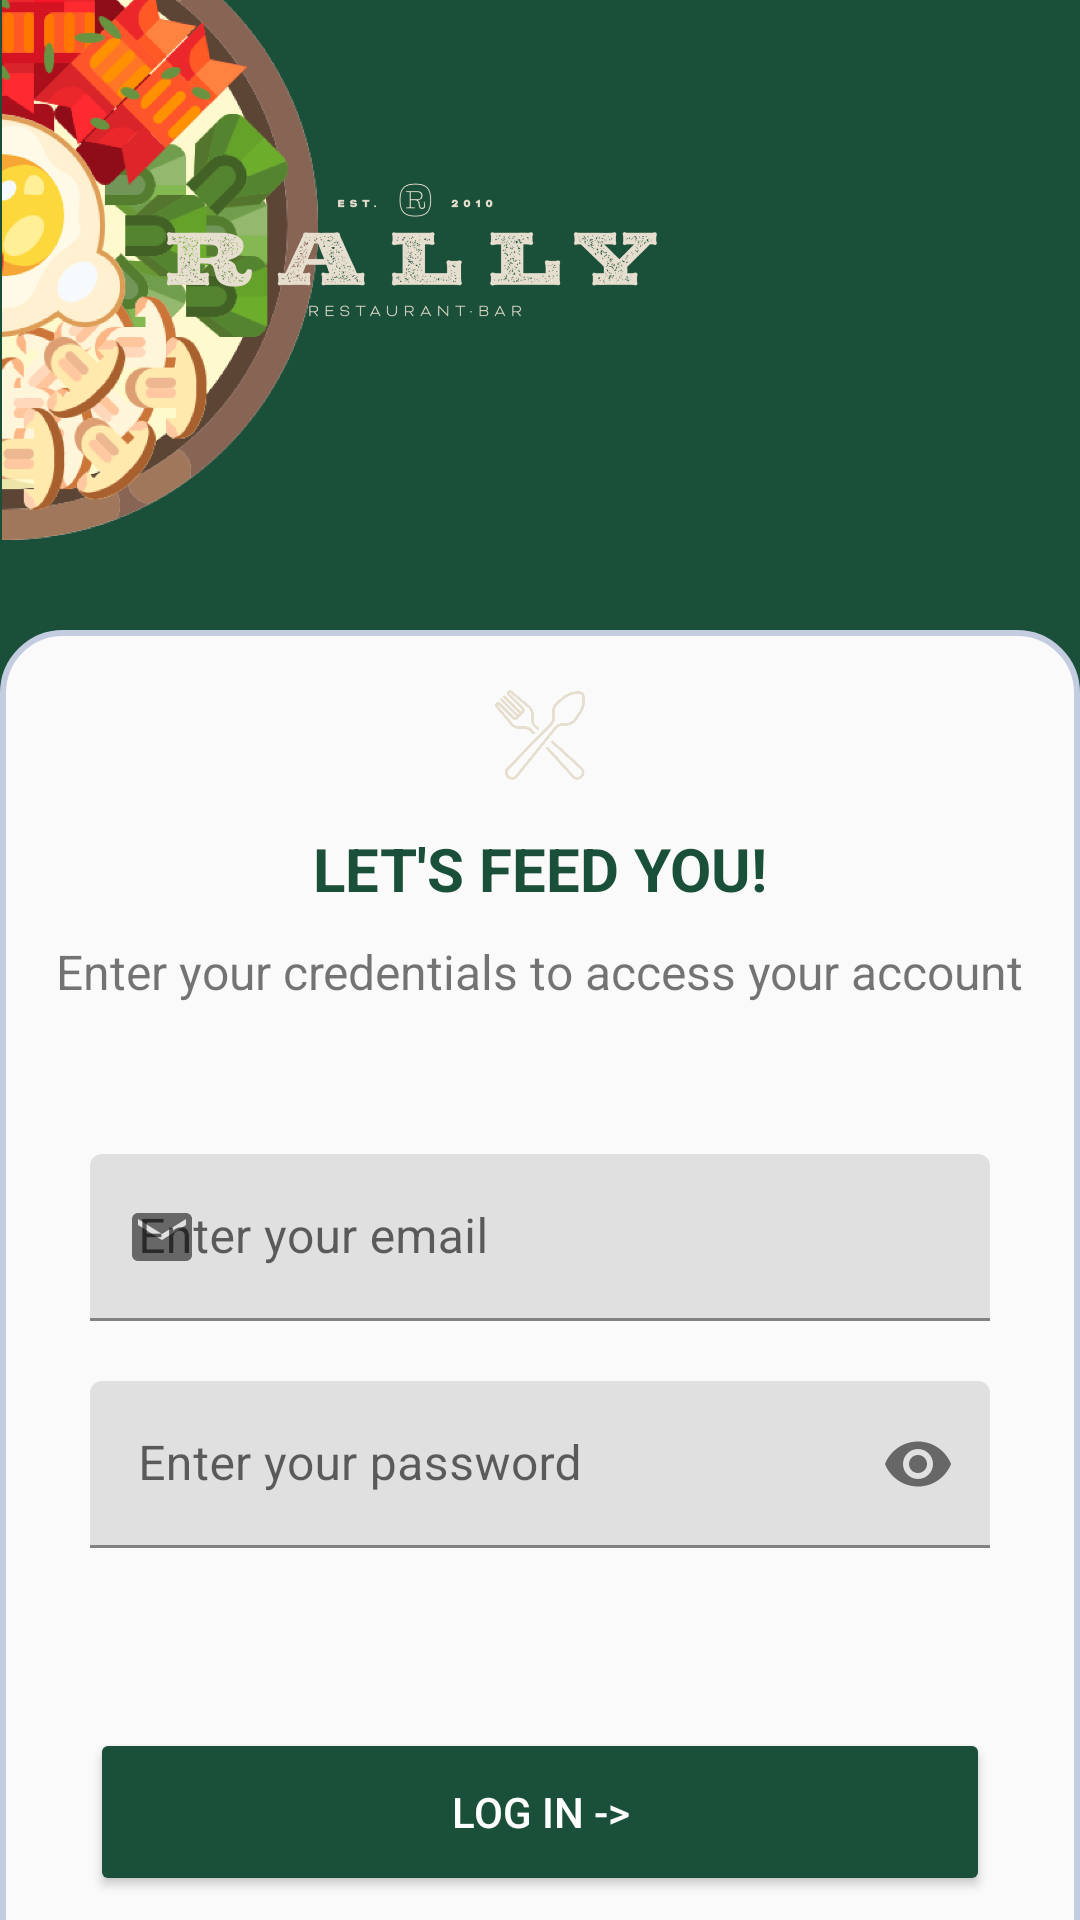

Icon bounding boxes for this 1080×1920 phone screenshot, format (x1, y1, x2, y2):
fork: (495, 690, 585, 780)
